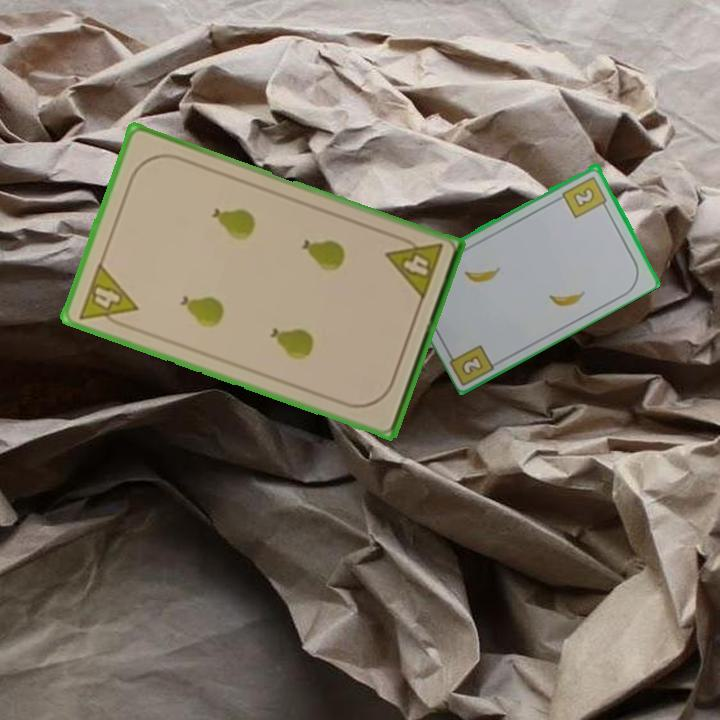2b: (559, 172, 611, 221), (460, 354, 484, 376)
4p: (74, 259, 141, 333), (382, 231, 446, 304)
